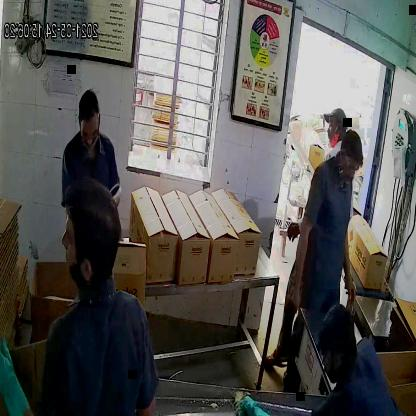goggles: (78, 117, 101, 142)
